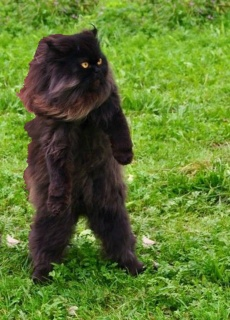Cat: (15, 23, 147, 285)
